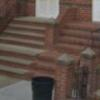stairs: (2, 47, 60, 81), (0, 22, 54, 55), (61, 22, 100, 52)
